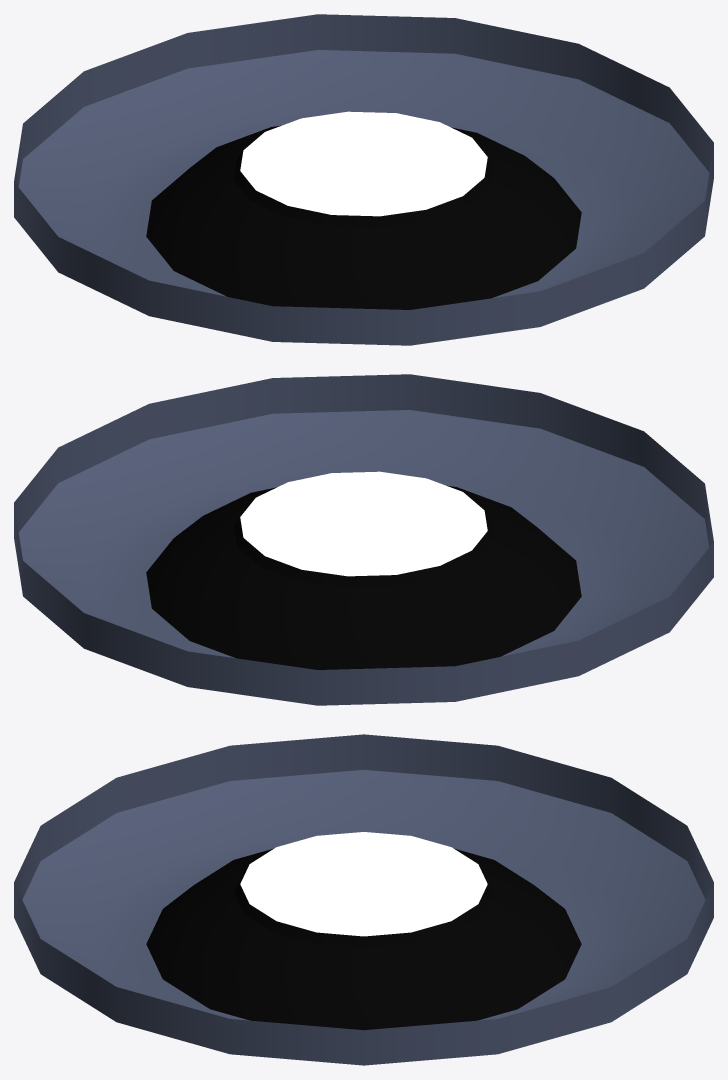
The model's file is RS_bulb.fbx.
The picture shows the model from 3 angles, top to bottom: view 1: azimuth 30°, elevation 25°; view 2: azimuth 150°, elevation 25°; view 3: azimuth 270°, elevation 25°; orthographic projection.
Parts seen in each view (by area): view 1: RS_bulb; view 2: RS_bulb; view 3: RS_bulb.
Boxes of the visible parts, box(x1,y1,x2,y2) form: RS_bulb: box(14, 14, 713, 345); RS_bulb: box(14, 374, 713, 705); RS_bulb: box(14, 734, 713, 1065).
Bounding box in the file's own units: 257 × 25.06 × 257.
